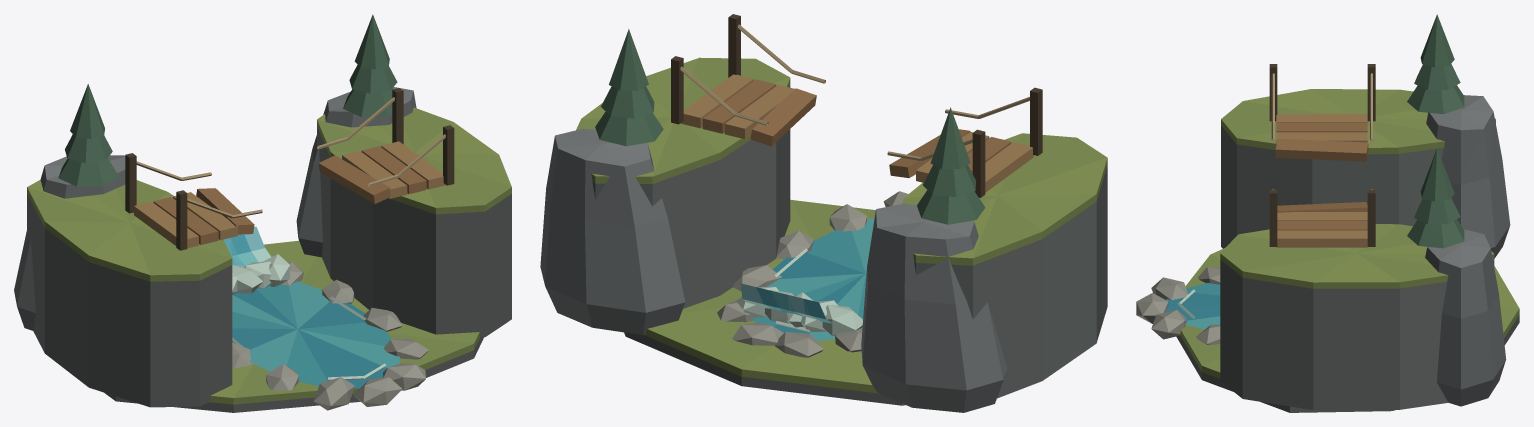
The picture shows the model from 3 angles, left to right: view 1: azimuth 30°, elevation 25°; view 2: azimuth 150°, elevation 25°; view 3: azimuth 270°, elevation 25°; orthographic projection. The views are drawn at different scales.
Visible parts, largest first — view 1: S06_断桥溪谷; view 2: S06_断桥溪谷; view 3: S06_断桥溪谷.
Boxes of the visible parts, x1,y1,x2,y2 form: S06_断桥溪谷: (14,14,511,412); S06_断桥溪谷: (540,14,1107,412); S06_断桥溪谷: (1136,14,1519,412).
Bounding box in the file's own units: 4.66 × 2.69 × 3.86.
